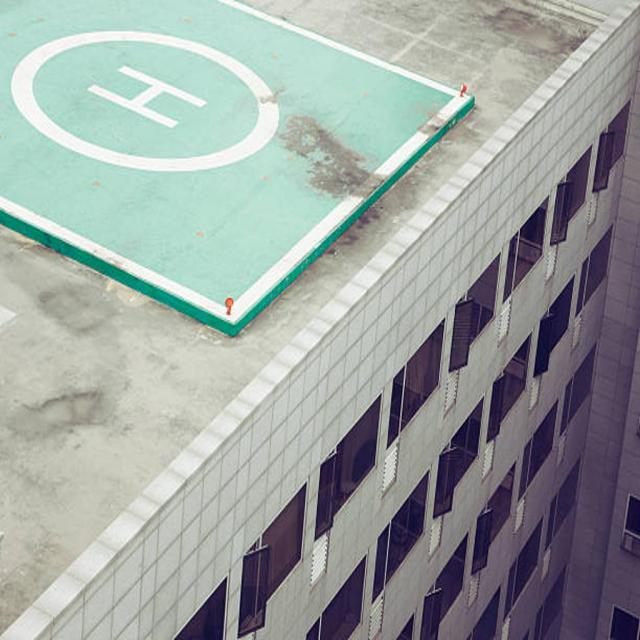helipad: (7, 28, 287, 178)
